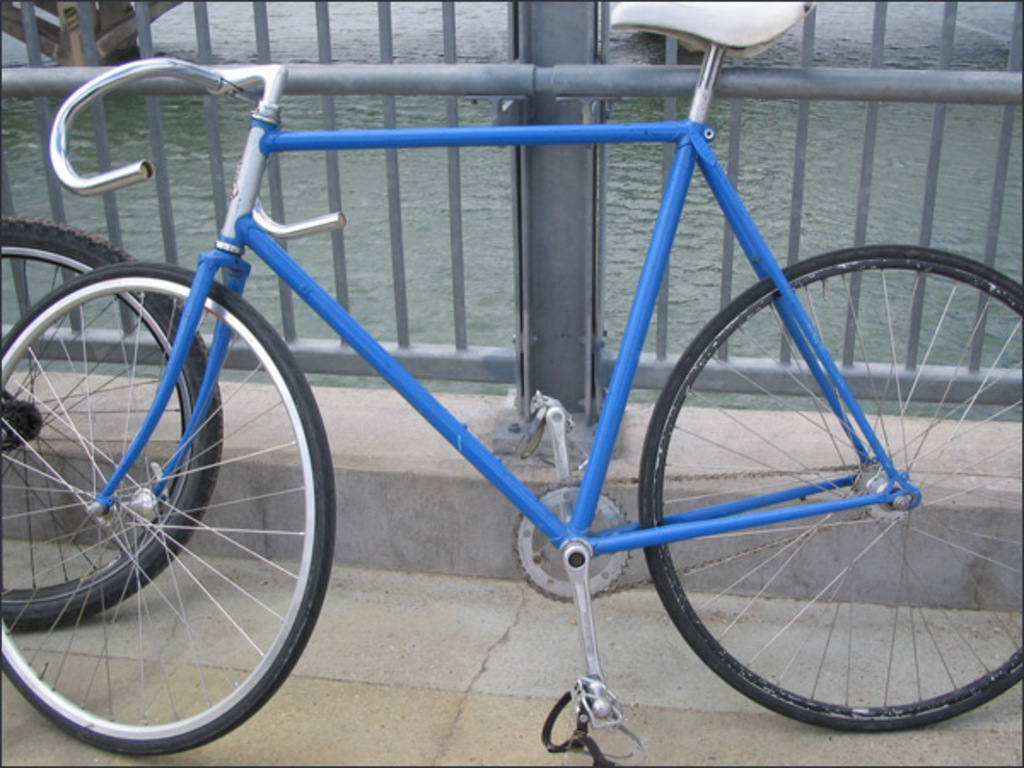Bike: (70, 60, 1020, 767)
